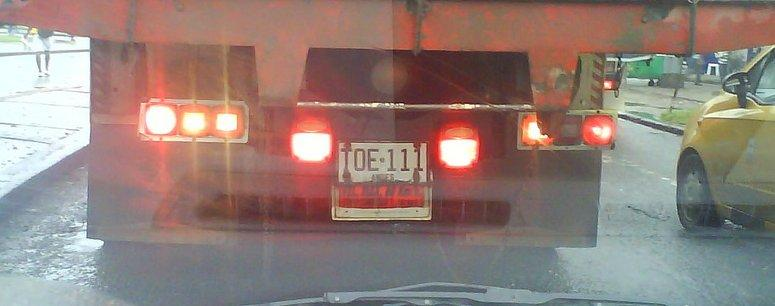placas: (333, 136, 431, 189)
